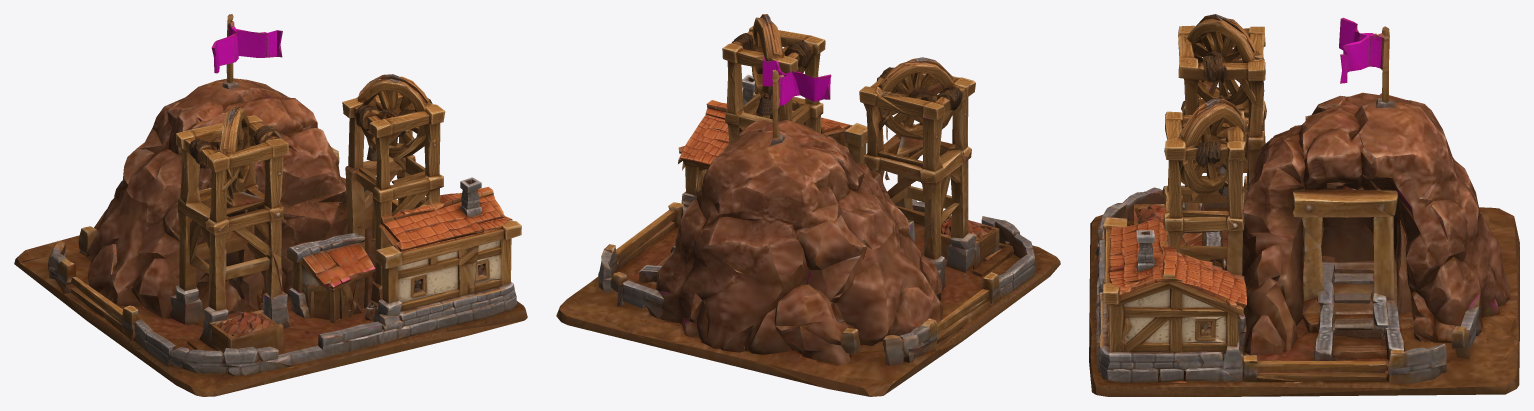
Rendered from clay_mine2.glb.
3 views of the same model, side by side, from view 1: azimuth 30°, elevation 25°; view 2: azimuth 150°, elevation 25°; view 3: azimuth 270°, elevation 25° (orthographic). The views are drawn at different scales.
Parts seen in each view (by area): view 1: Mesh_0; view 2: Mesh_0; view 3: Mesh_0.
Part boxes in pixels (x1,y1,x2,y2): Mesh_0: (14,14,527,396); Mesh_0: (556,14,1060,396); Mesh_0: (1089,14,1519,396).
Size of the model in its own units: 1.91 by 1.35 by 1.9.
1 material, 1 textured.
